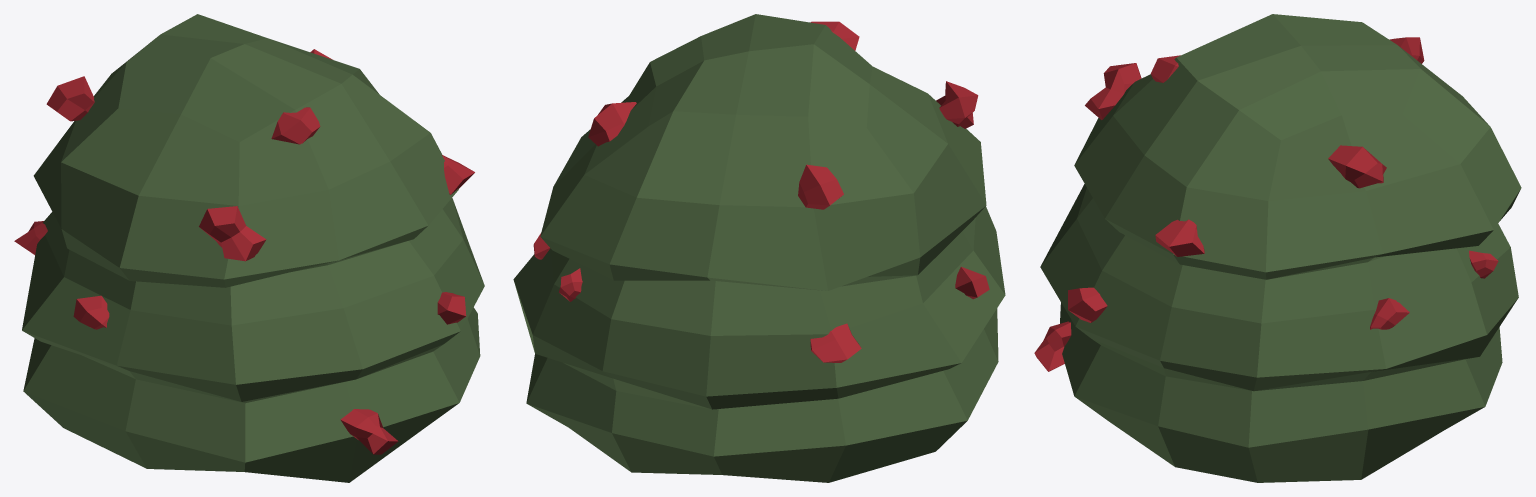
The model's file is berry_bush.glb.
The picture shows the model from 3 angles, left to right: view 1: azimuth 30°, elevation 25°; view 2: azimuth 150°, elevation 25°; view 3: azimuth 270°, elevation 25°; orthographic projection. The views are drawn at different scales.
Visible parts, largest first — view 1: BushBerries_2; view 2: BushBerries_2; view 3: BushBerries_2.
Part boxes in pixels (x1=…): BushBerries_2: x1=14, y1=14, x2=484, y2=482; BushBerries_2: x1=513, y1=14, x2=1005, y2=482; BushBerries_2: x1=1034, y1=14, x2=1521, y2=482.
Size of the model in its own units: 1.34 by 1.13 by 1.33.
1 material, 1 textured.
